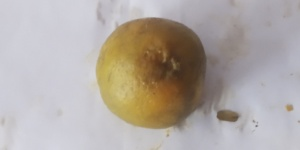BAD: (94, 17, 206, 128)
